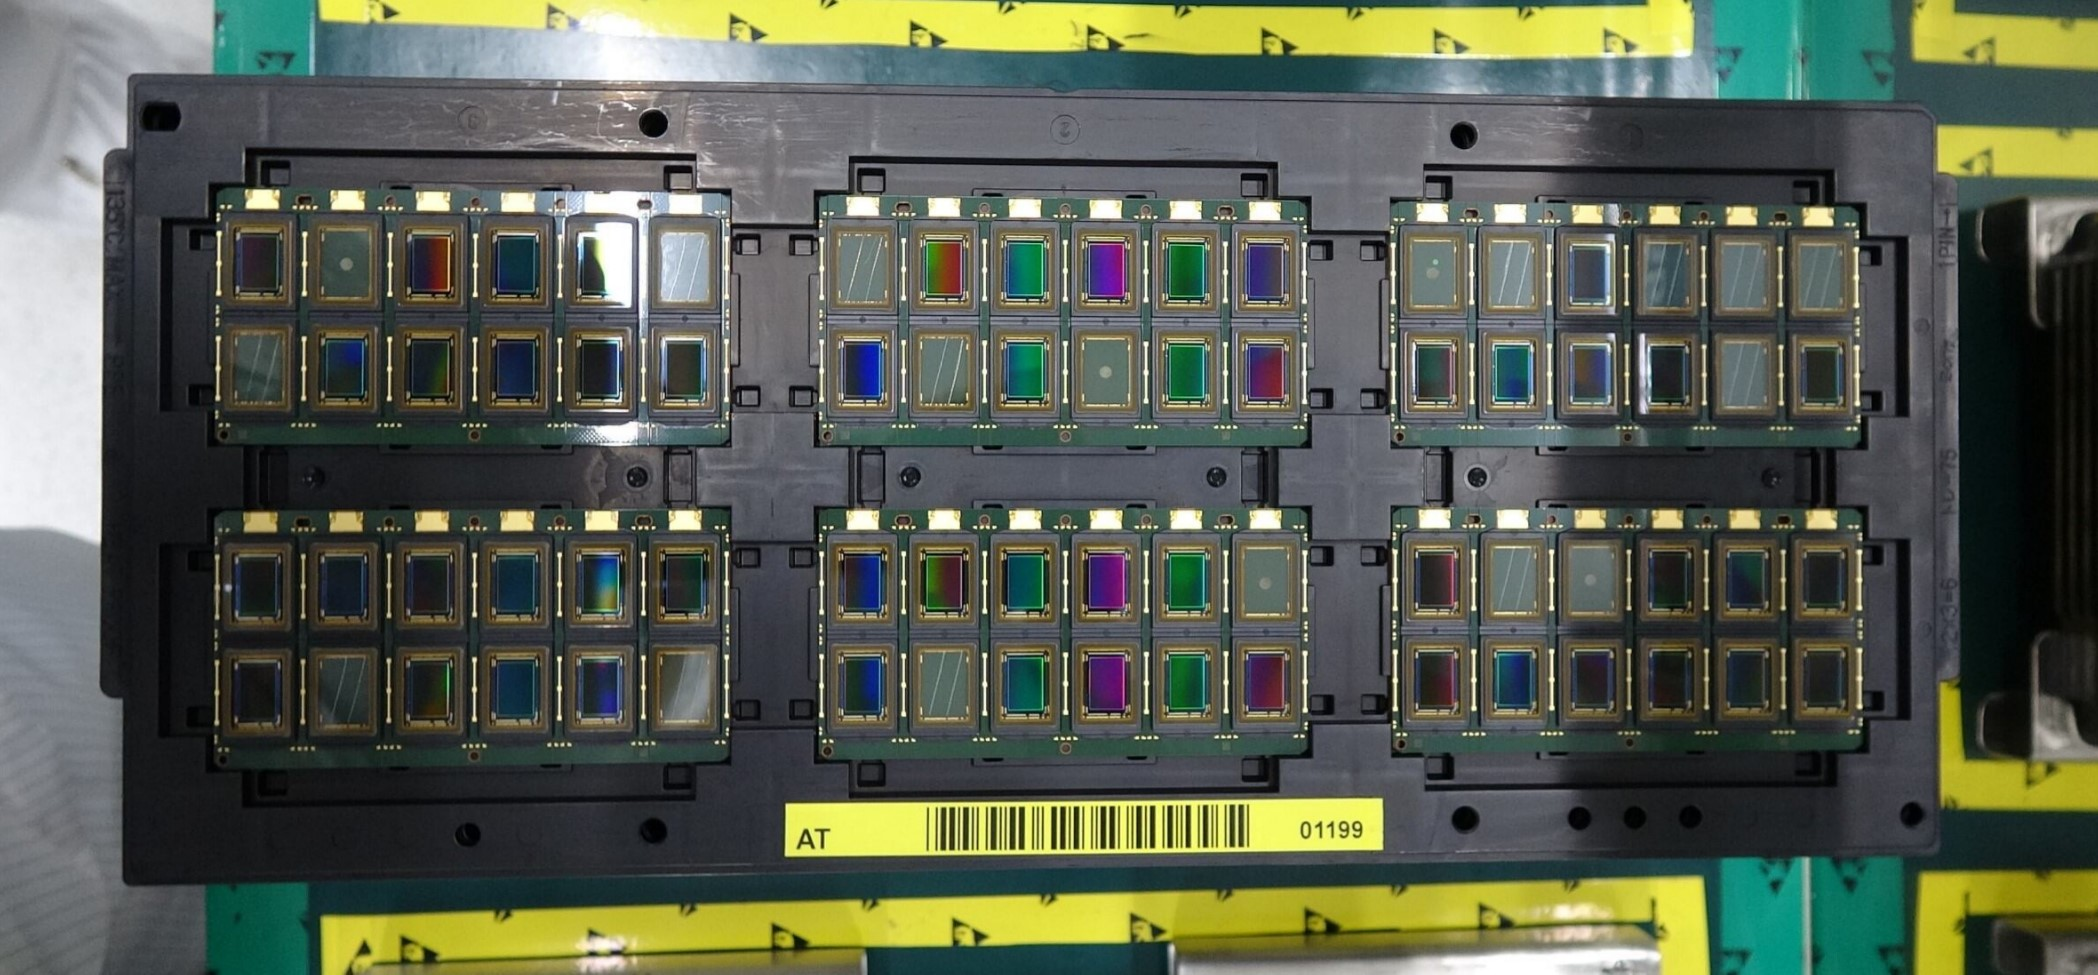Bad_mark_from_BMS_mold: (826, 219, 899, 316), (646, 643, 721, 733), (649, 217, 719, 310), (909, 326, 979, 417), (909, 641, 981, 729), (222, 322, 294, 411), (309, 647, 380, 736), (1479, 534, 1549, 621), (1480, 227, 1547, 317), (1788, 233, 1854, 320), (1711, 333, 1780, 417), (1634, 230, 1701, 316), (1711, 230, 1776, 317)
Bad_mark_from_Maker: (1400, 223, 1468, 318), (308, 215, 380, 304), (1557, 535, 1624, 625), (1072, 325, 1139, 415), (1232, 538, 1302, 623)
